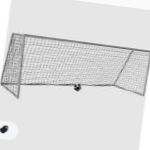goals: (1, 32, 150, 101)
